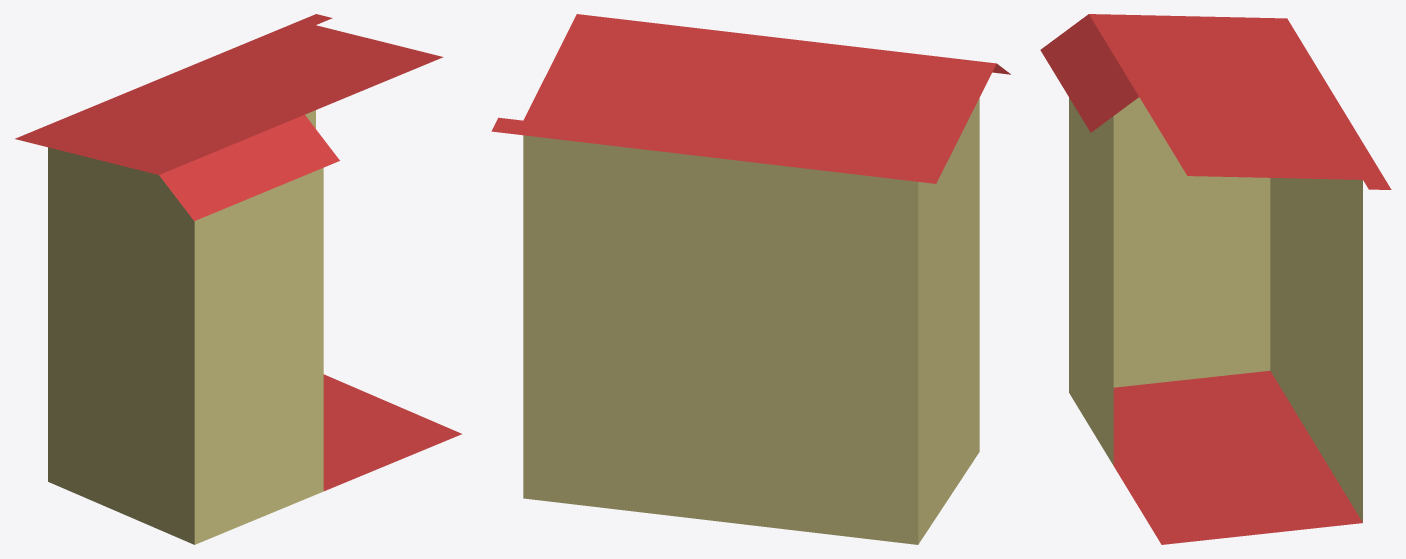
The picture shows the model from 3 angles, left to right: view 1: azimuth 30°, elevation 25°; view 2: azimuth 150°, elevation 25°; view 3: azimuth 270°, elevation 25°; orthographic projection. The views are drawn at different scales.
Size of the model in its own units: 9.36 by 7.46 by 8.58.
